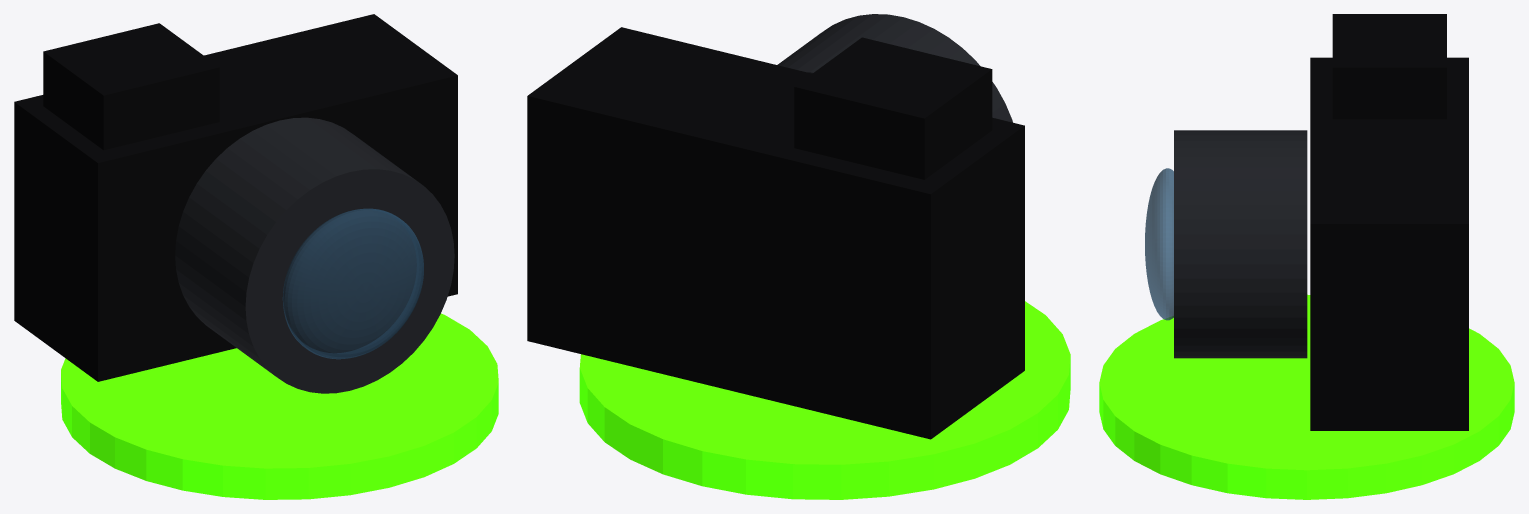
The model's file is tech_camera.dae.
3 renders of one model, left to right at view 1: azimuth 30°, elevation 25°; view 2: azimuth 150°, elevation 25°; view 3: azimuth 270°, elevation 25°, orthographic. The views are drawn at different scales.
Visible parts, largest first — view 1: 08_09_Popular_Tech_Camera_part_01, 08_09_Popular_Tech_Camera_part_02, 08_09_Popular_Tech_Camera_ROOT_base, 08_09_Popular_Tech_Camera_part_04, 08_09_Popular_Tech_Camera_part_03; view 2: 08_09_Popular_Tech_Camera_part_01, 08_09_Popular_Tech_Camera_ROOT_base, 08_09_Popular_Tech_Camera_part_04, 08_09_Popular_Tech_Camera_part_02; view 3: 08_09_Popular_Tech_Camera_part_01, 08_09_Popular_Tech_Camera_ROOT_base, 08_09_Popular_Tech_Camera_part_02, 08_09_Popular_Tech_Camera_part_04, 08_09_Popular_Tech_Camera_part_03.
Part boxes in pixels (box(x1,y1,x2,y2)): 08_09_Popular_Tech_Camera_part_01: box(14, 14, 457, 381); 08_09_Popular_Tech_Camera_part_02: box(175, 117, 454, 393); 08_09_Popular_Tech_Camera_ROOT_base: box(61, 313, 498, 499); 08_09_Popular_Tech_Camera_part_04: box(43, 23, 219, 150); 08_09_Popular_Tech_Camera_part_03: box(282, 208, 423, 359); 08_09_Popular_Tech_Camera_part_01: box(527, 27, 1024, 439); 08_09_Popular_Tech_Camera_ROOT_base: box(579, 301, 1070, 499); 08_09_Popular_Tech_Camera_part_04: box(794, 37, 992, 179); 08_09_Popular_Tech_Camera_part_02: box(777, 14, 1012, 122); 08_09_Popular_Tech_Camera_part_01: box(1310, 57, 1468, 430); 08_09_Popular_Tech_Camera_ROOT_base: box(1099, 294, 1514, 499); 08_09_Popular_Tech_Camera_part_02: box(1174, 130, 1307, 358); 08_09_Popular_Tech_Camera_part_04: box(1332, 14, 1446, 119); 08_09_Popular_Tech_Camera_part_03: box(1145, 168, 1173, 320).
Size of the model in its own units: 0.76 by 0.6526 by 0.76.
